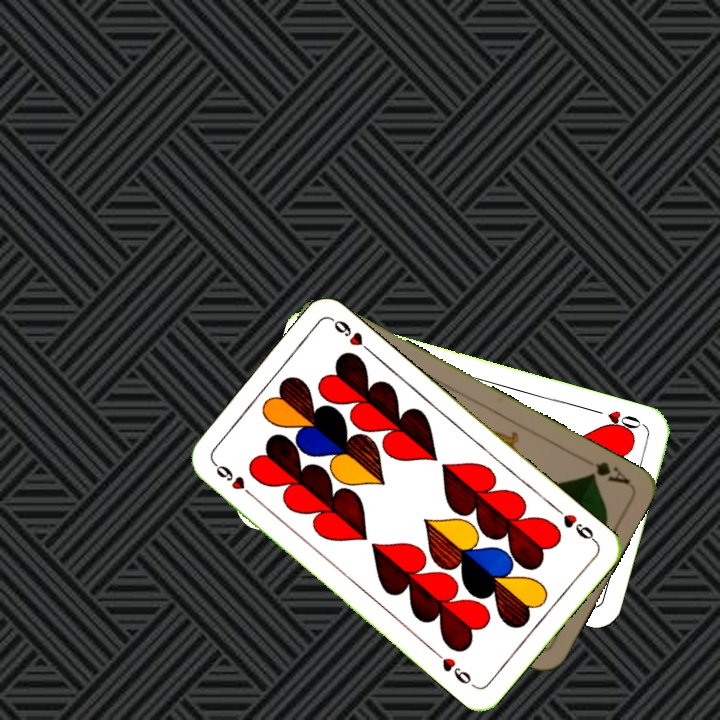GA: (583, 457, 633, 487)
H9: (551, 503, 600, 546), (209, 458, 258, 501)
HO: (588, 405, 646, 437)
